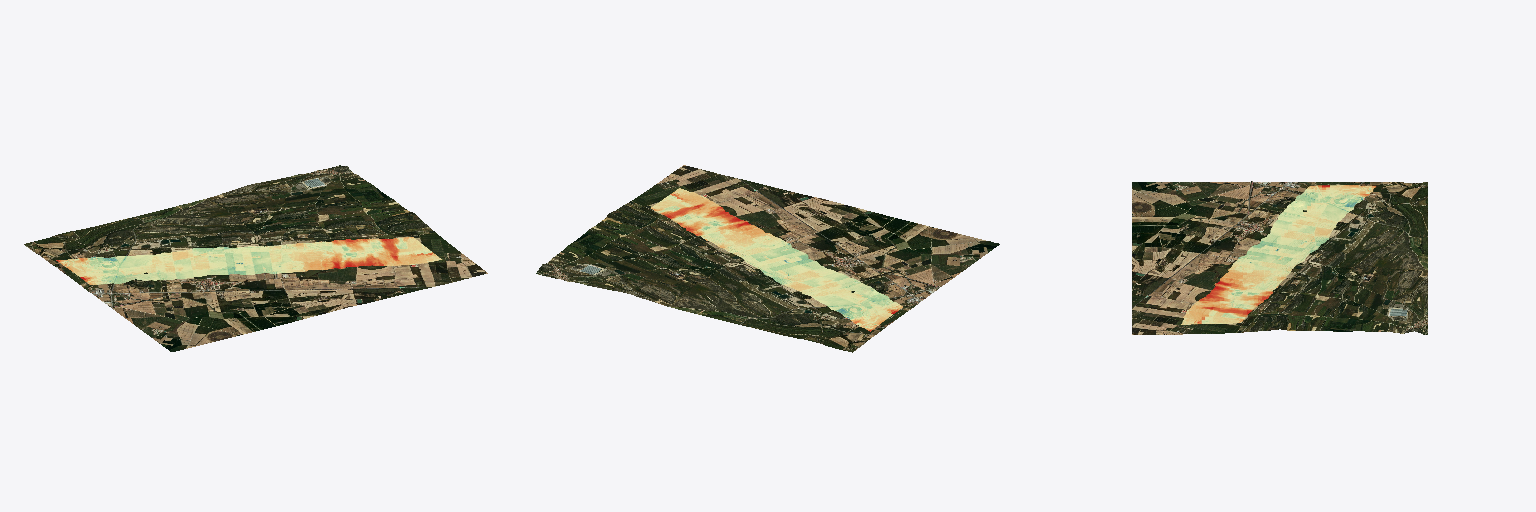
The picture shows the model from 3 angles: view 1: azimuth 30°, elevation 25°; view 2: azimuth 150°, elevation 25°; view 3: azimuth 270°, elevation 25°; orthographic projection.
Parts seen in each view (by area): view 1: humitat_MetElipResi.001; view 2: humitat_MetElipResi.001; view 3: humitat_MetElipResi.001.
Boxes of the visible parts, <box> form: humitat_MetElipResi.001: <box>24,165,487,351</box>; humitat_MetElipResi.001: <box>536,165,999,352</box>; humitat_MetElipResi.001: <box>1132,181,1427,334</box>.
Size of the model in its own units: 23.63 by 0.5849 by 19.14.
1 materials, 1 textured.